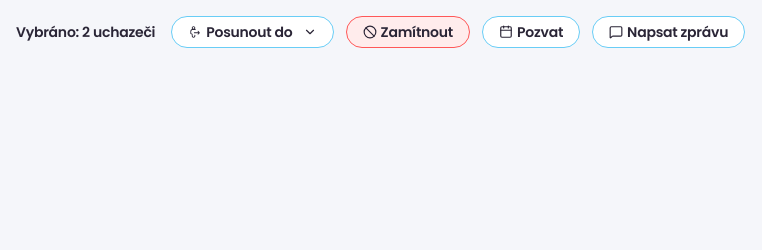
BulkAction › moves the selection to the chosen status
This screenshot has width=762, height=250.
Click the button with test id "bulk-action-move". click: {"x": 252, "y": 32}
box: [171,16,334,48]
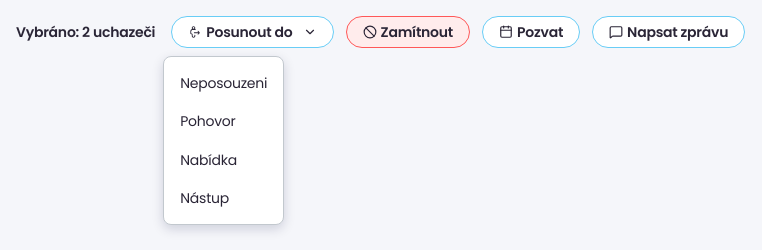
Click the option "Pohovor". click: {"x": 224, "y": 121}
box: [172,103,275,140]
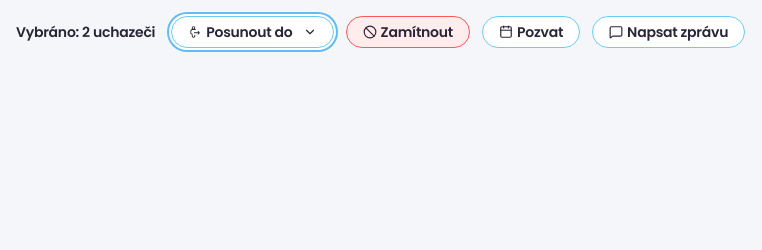
Now the element with test id "dropdown-body" is gone
